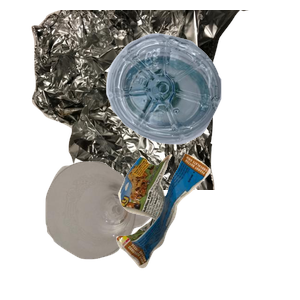glass: (43, 159, 187, 300)
metal: (29, 10, 269, 190)
plastic: (104, 31, 300, 168)
trash: (114, 151, 300, 300)
